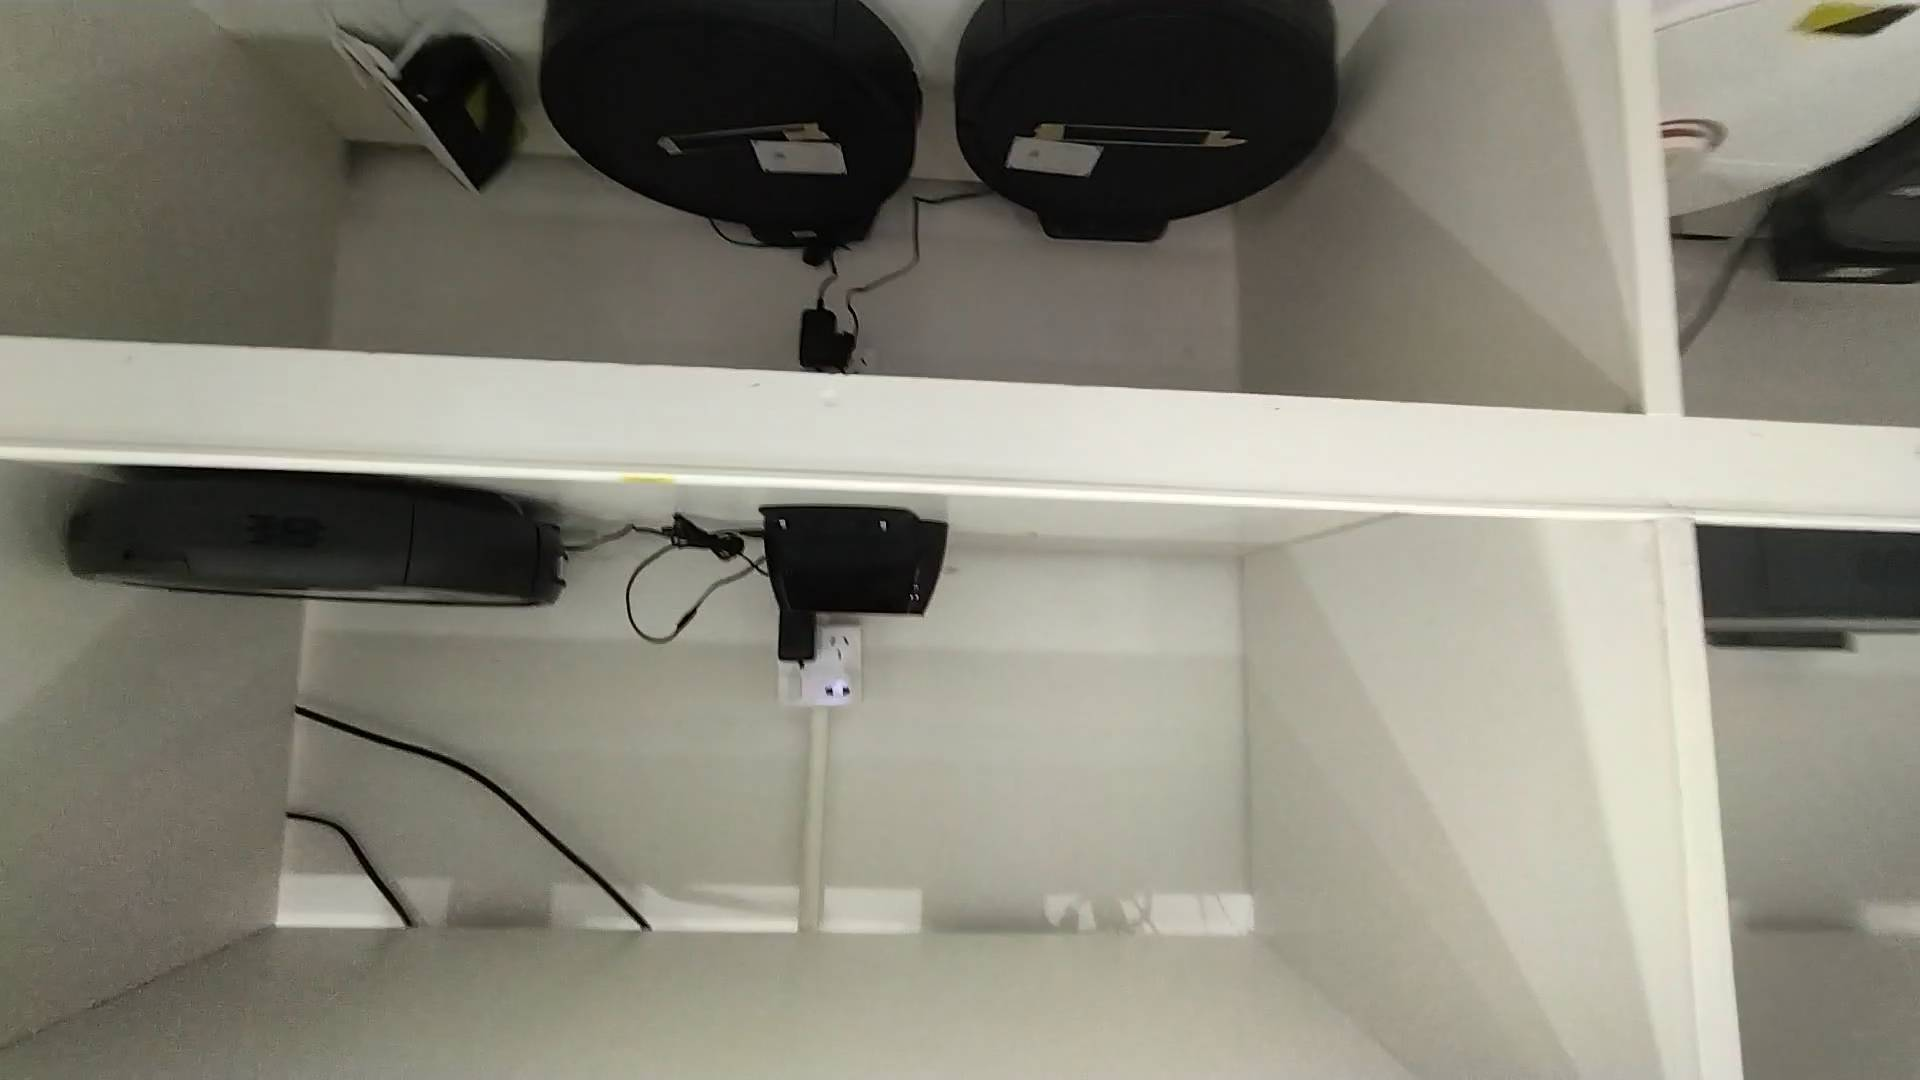recharge seat: (322, 15, 524, 195), (749, 502, 951, 617)
